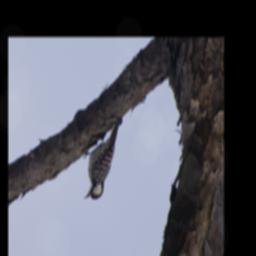Woodpecker: (80, 113, 126, 205)
